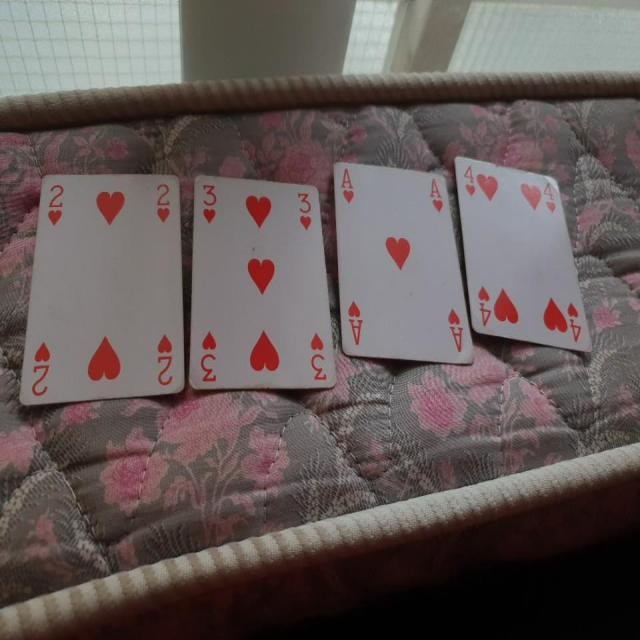2 Hearts: (15, 172, 192, 409)
3 Hearts: (188, 166, 342, 398)
4 Hearts: (452, 151, 602, 360)
A Hearts: (326, 154, 479, 386)
